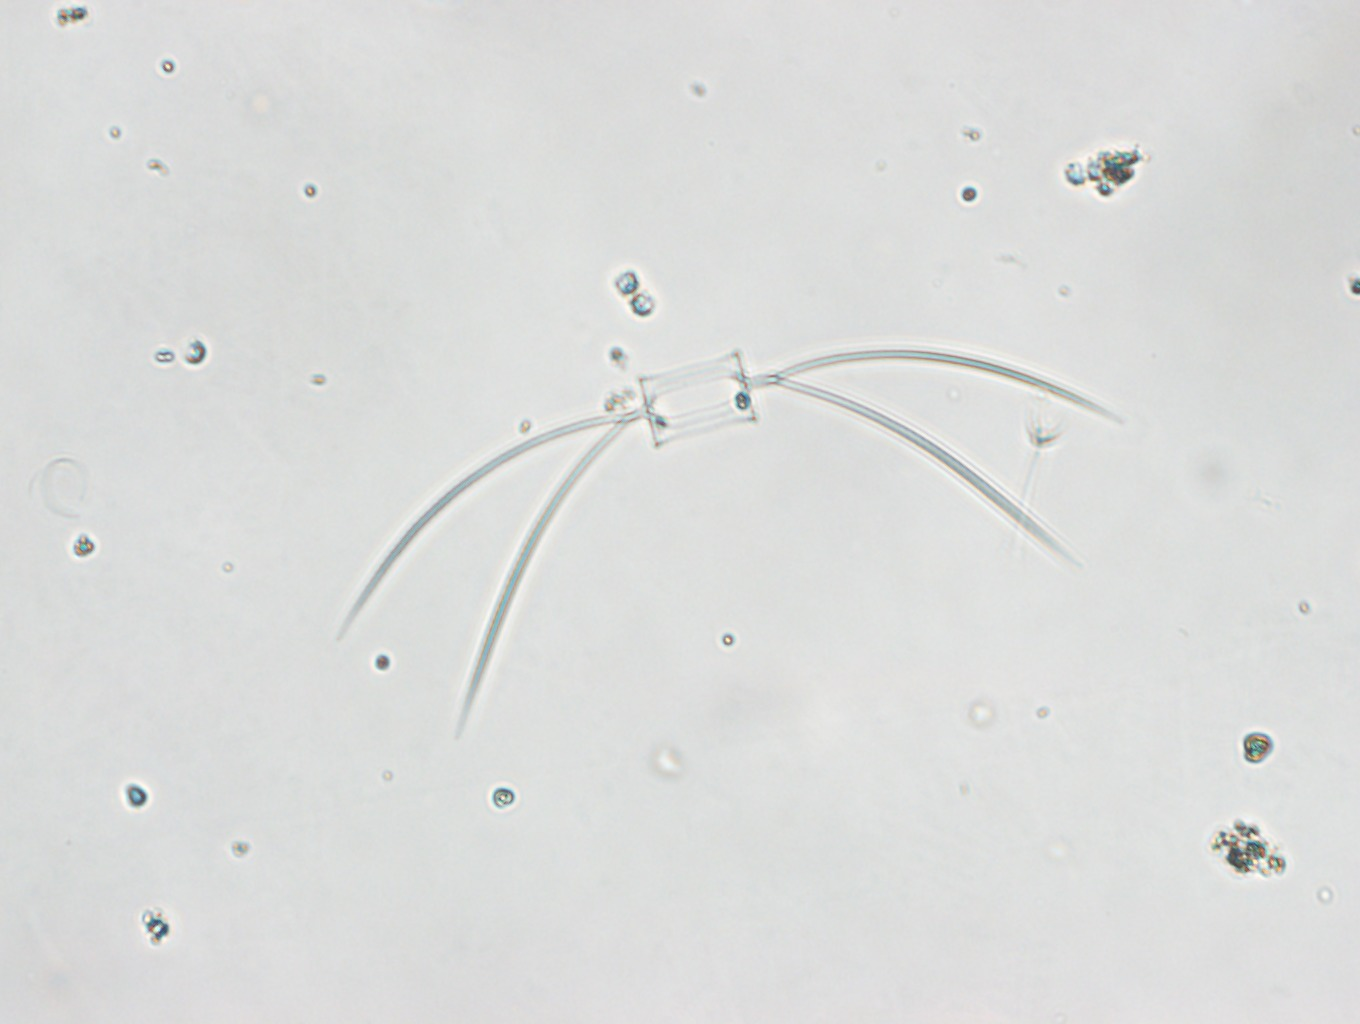chaetoceros: (326, 339, 1135, 727)
